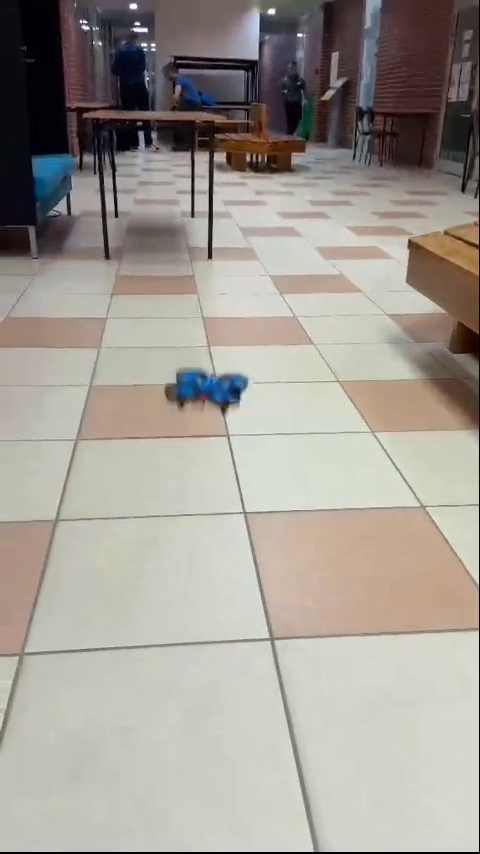drone: (165, 366, 248, 406)
no vest: (107, 27, 164, 156), (280, 60, 316, 147), (164, 58, 206, 111)
